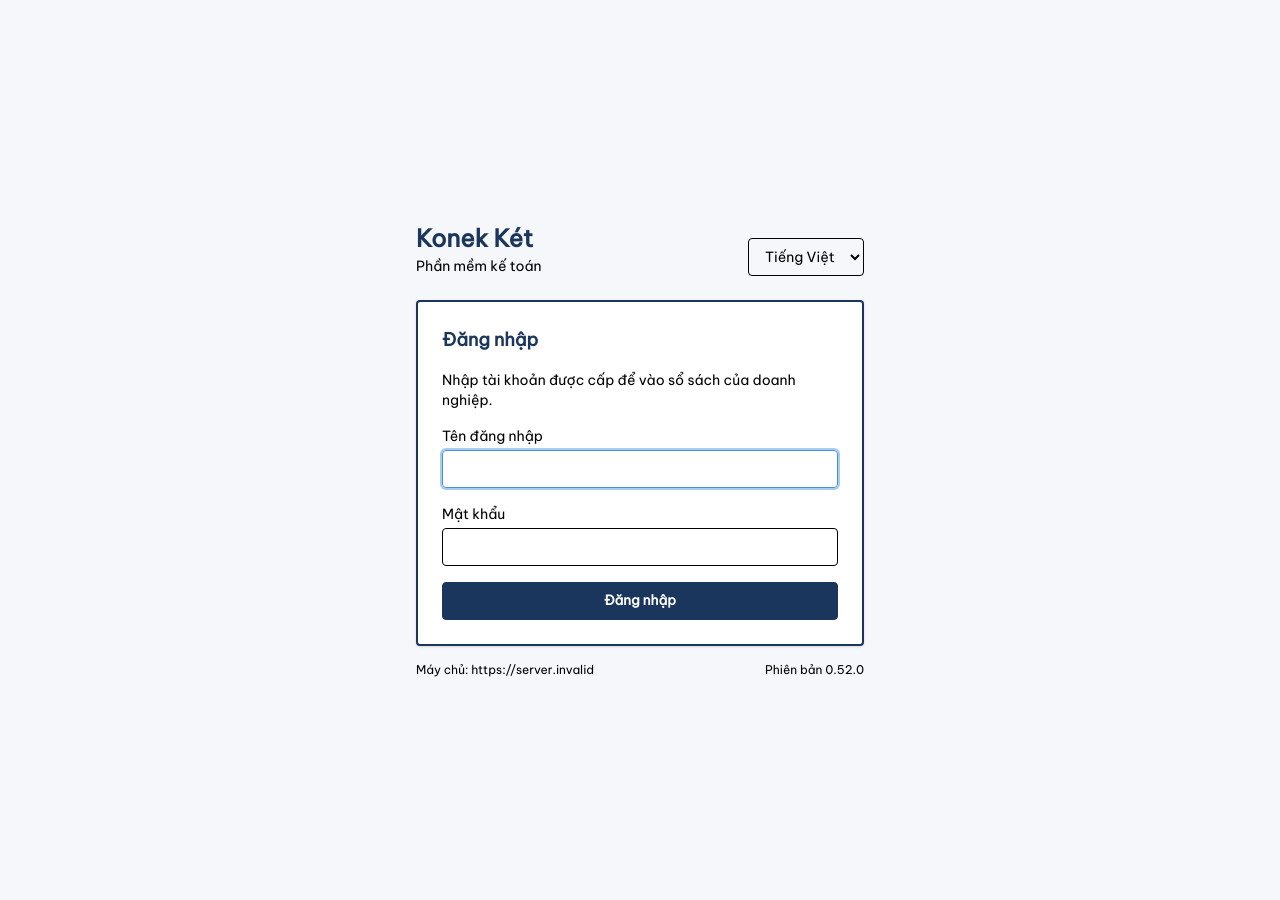
Scenario: luồng đăng nhập › đăng nhập xuôi thì vào thẳng ứng dụng
The width and height of the screenshot is (1280, 900).
Type "ke_toan" into the field labelled "Tên đăng nhập" at (640, 469), box x1=442 y1=450 x2=838 y2=488
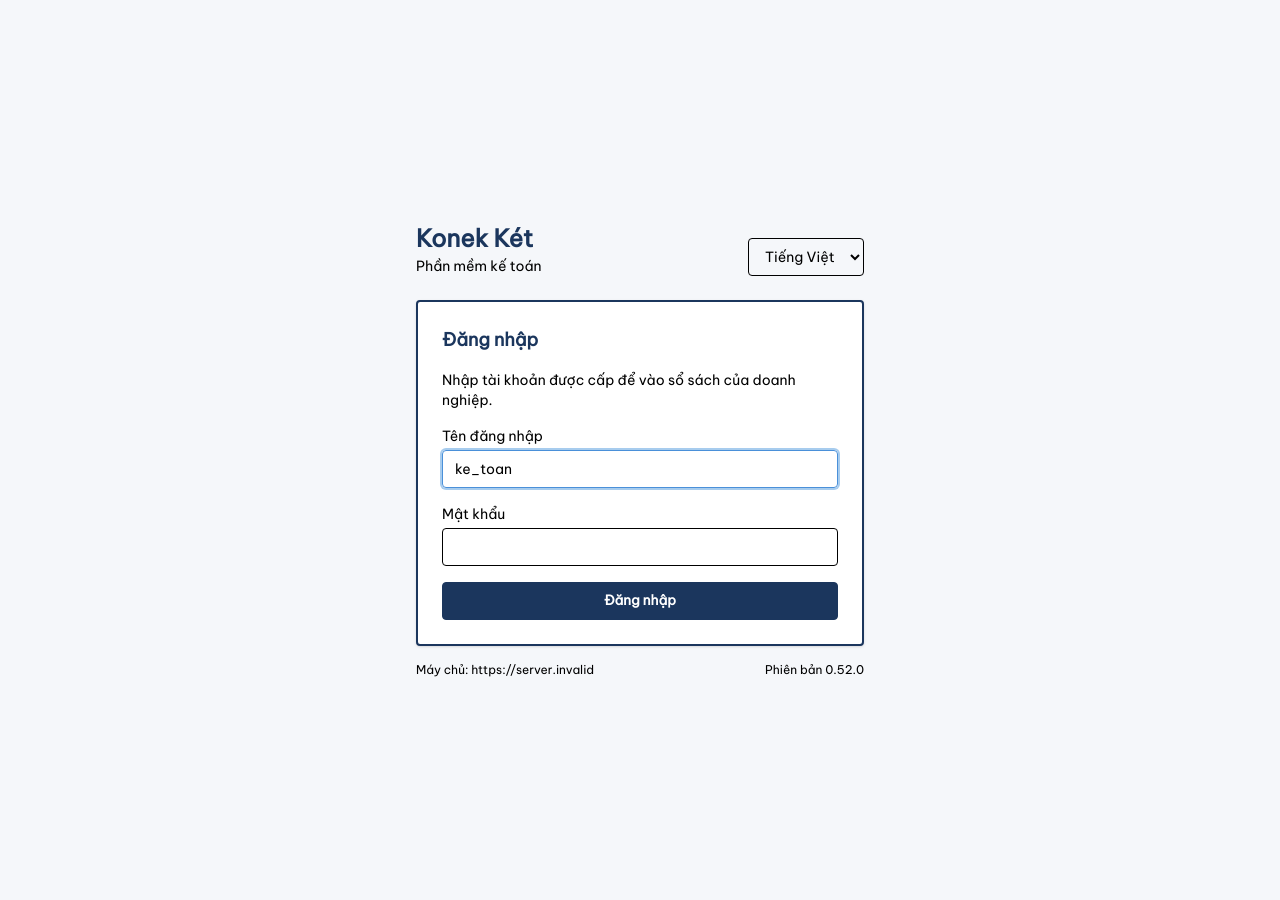
Type "mat-khau-dung" into the password field labelled "Mật khẩu" at (640, 547), box x1=442 y1=528 x2=838 y2=566
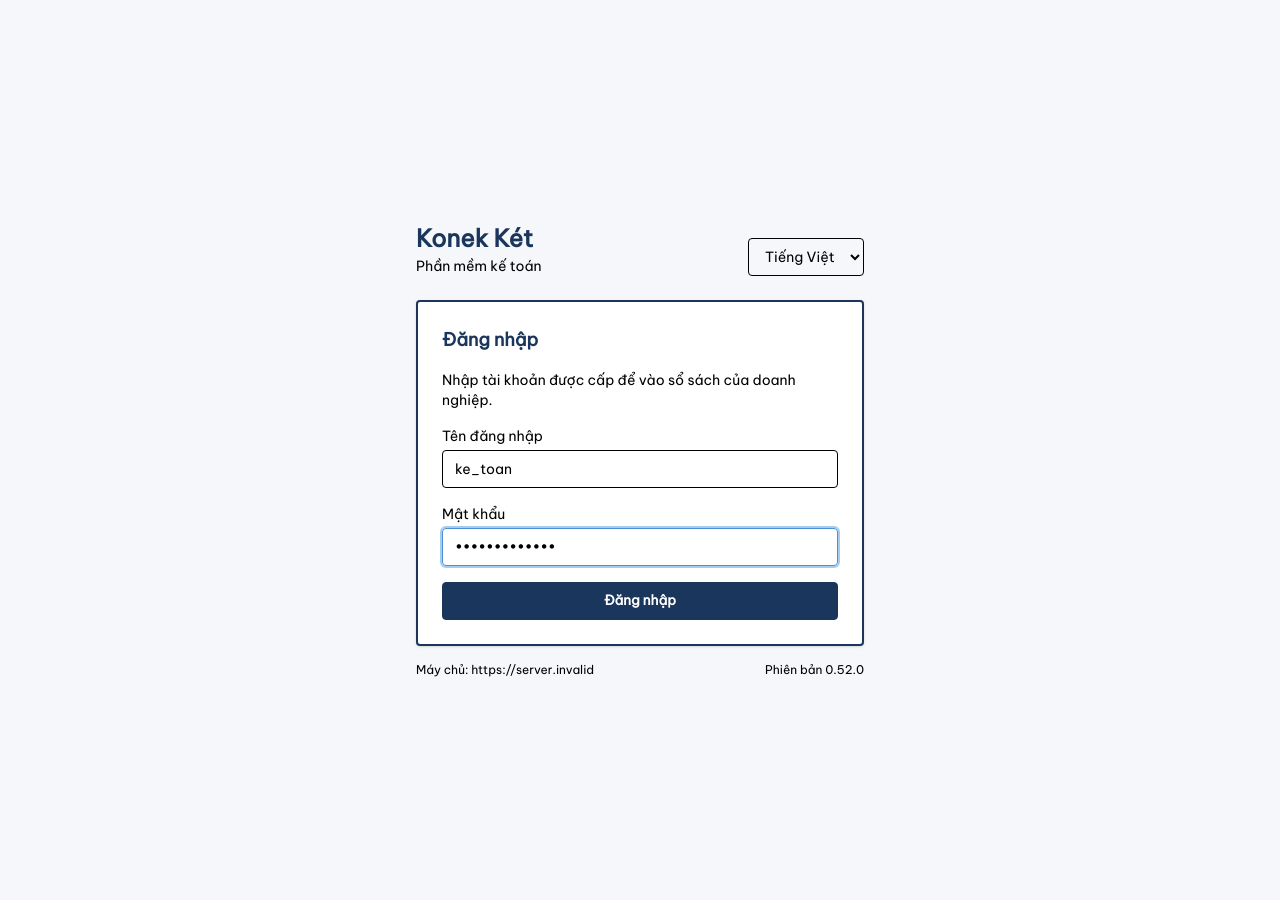
Click the button "Đăng nhập" at (640, 601), box x1=442 y1=582 x2=838 y2=620
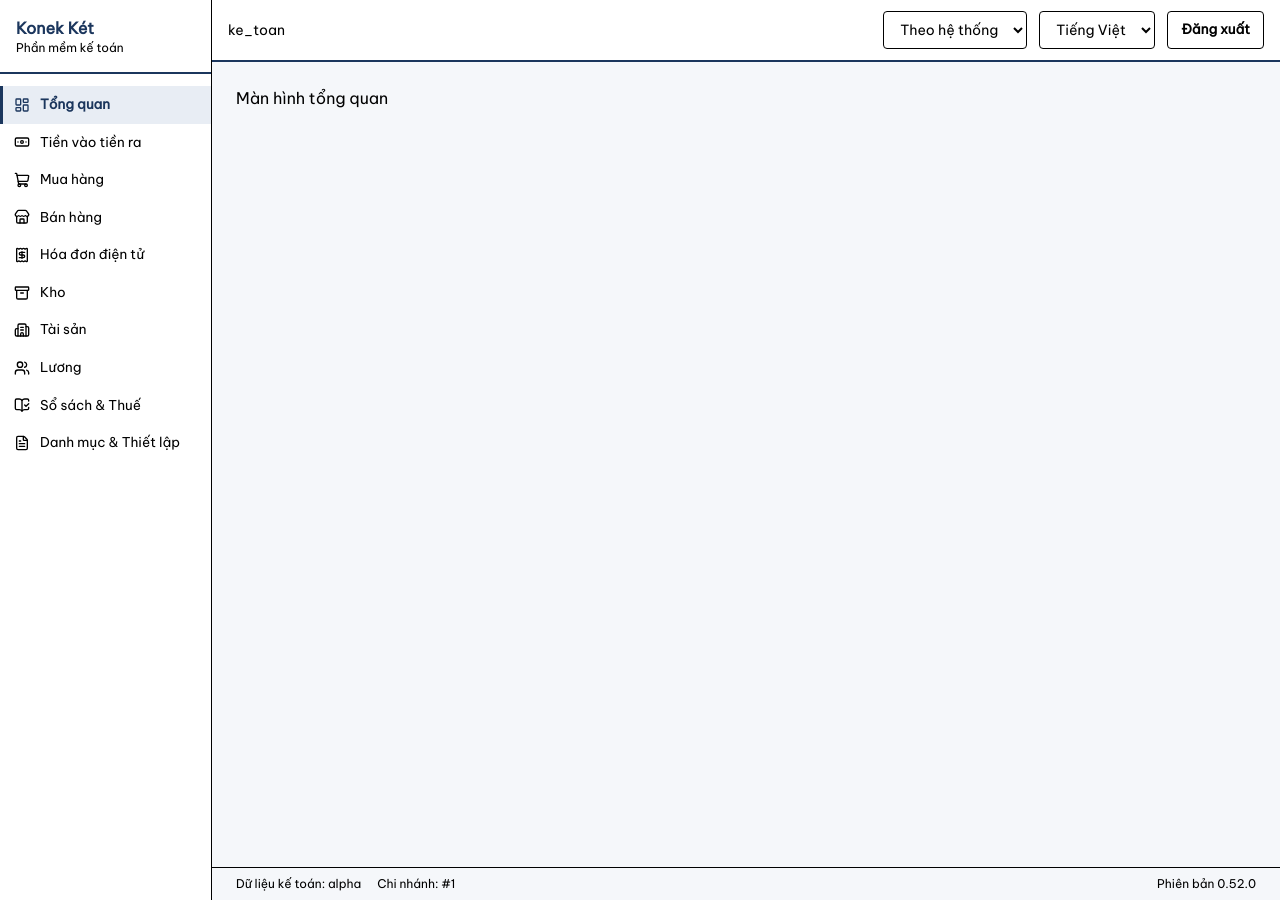
Expected: the text "Màn hình tổng quan" is shown, x1=236 y1=88 x2=388 y2=108
